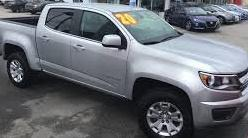Trucks: (1, 5, 248, 138)
